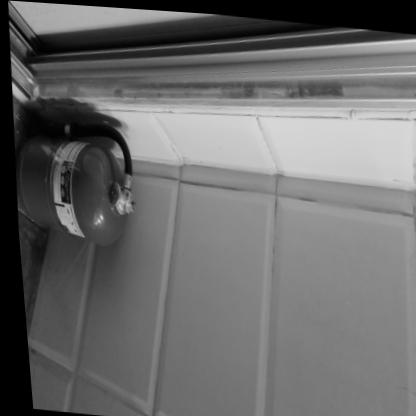FE: (7, 113, 138, 244)
